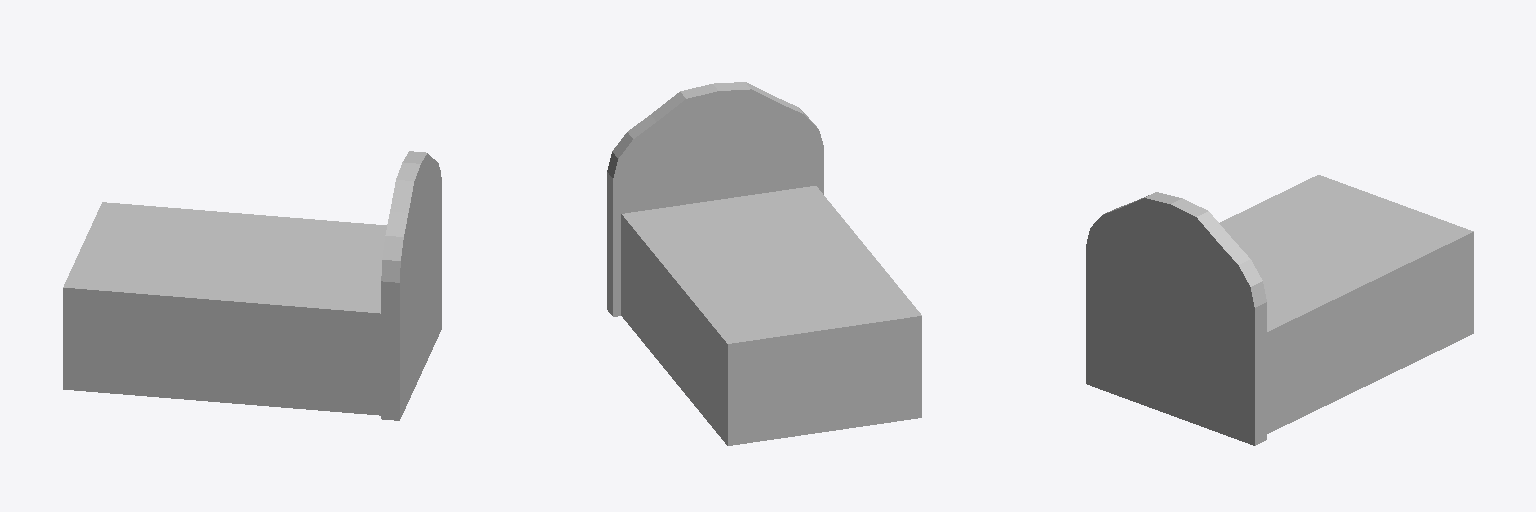
Rendered from bed.obj.
3 views of the same model, side by side, from view 1: azimuth 30°, elevation 25°; view 2: azimuth 150°, elevation 25°; view 3: azimuth 270°, elevation 25° (orthographic).
Visible parts, largest first — view 1: polySurface2266; view 2: polySurface2266; view 3: polySurface2266.
Boxes of the visible parts, x1,y1,x2,y2 form: polySurface2266: [63, 151, 441, 420]; polySurface2266: [607, 82, 921, 445]; polySurface2266: [1086, 175, 1473, 445].
Size of the model in its own units: 3.24 by 1.88 by 3.14.